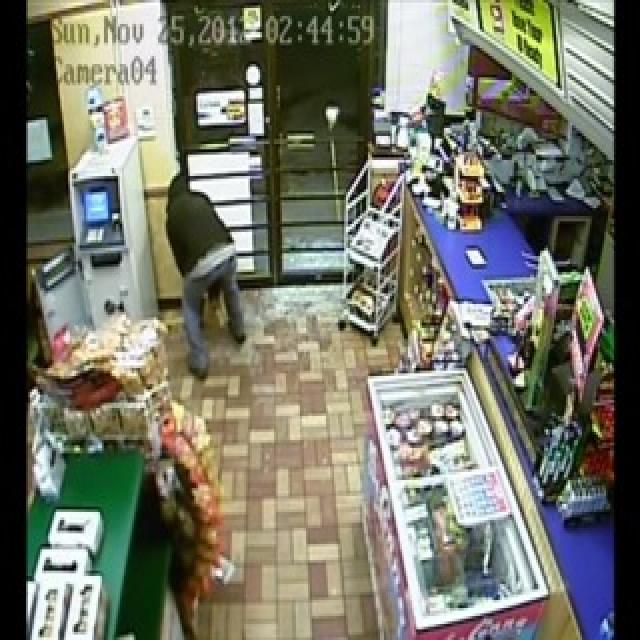thief: (139, 187, 248, 376)
